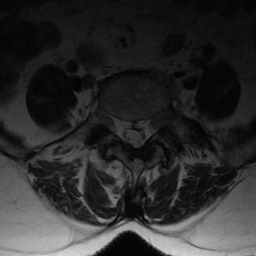CCS_normal: (129, 110, 139, 155)
LFS_normal: (151, 102, 163, 142)
LLS_normal: (139, 108, 151, 148)
RFS_normal: (108, 103, 119, 142)
RLS_normal: (118, 108, 129, 151)
